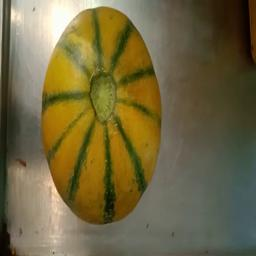Melon Fresh: (28, 5, 175, 229)
